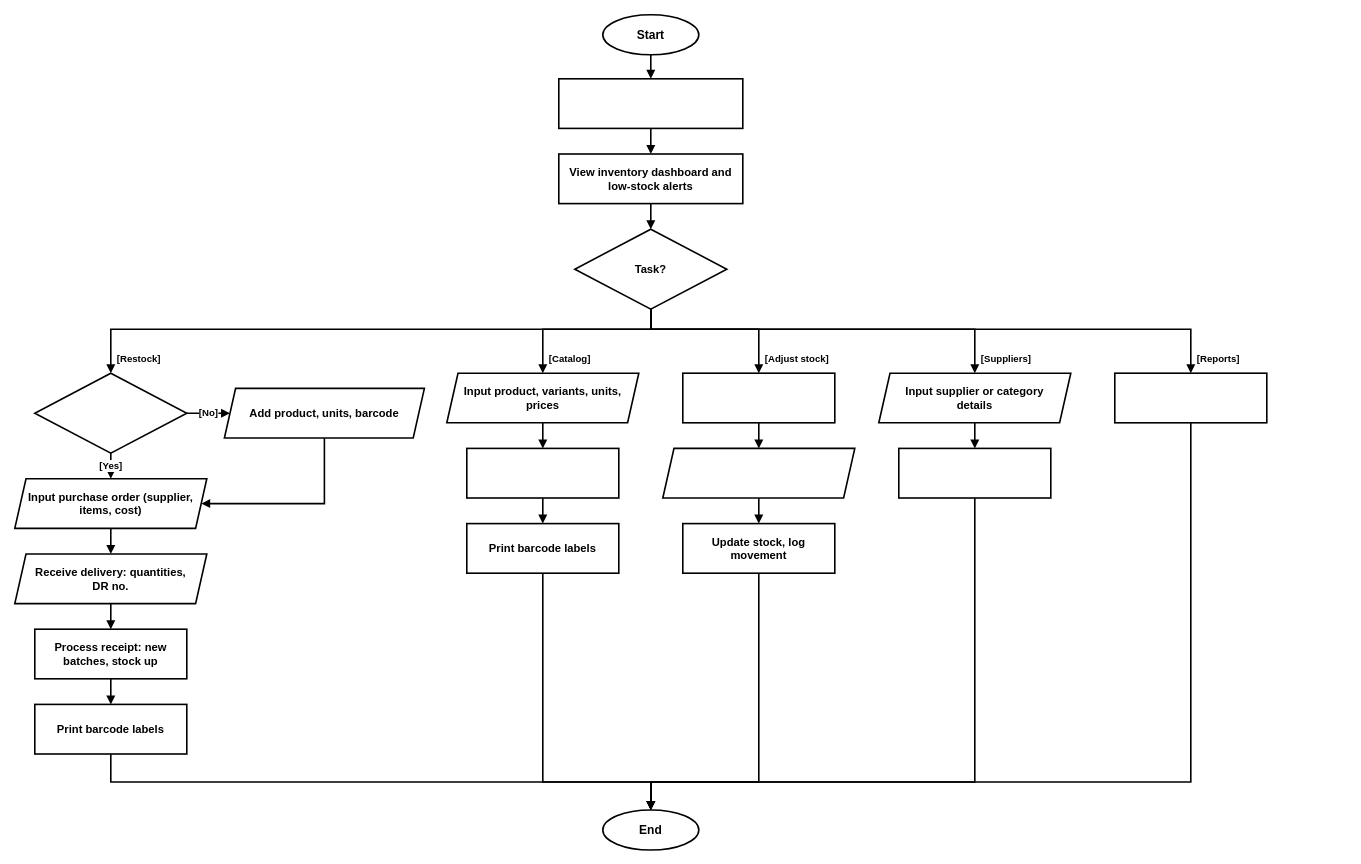
The diagram is 1361 pixels wide and 864 high, and some of its shapes have lost their labels. Each missing label, with the box of its shape:
Barcode assigned (factory or QB code): (466, 447, 619, 498)
Input type, quantity, remarks: (662, 447, 855, 498)
Login: (558, 78, 743, 129)
Product in catalog?: (34, 372, 187, 454)
Save supplier or category: (898, 447, 1051, 498)
Select item: (682, 372, 835, 423)
View stock, movements, sales and returns: (1114, 372, 1267, 423)
